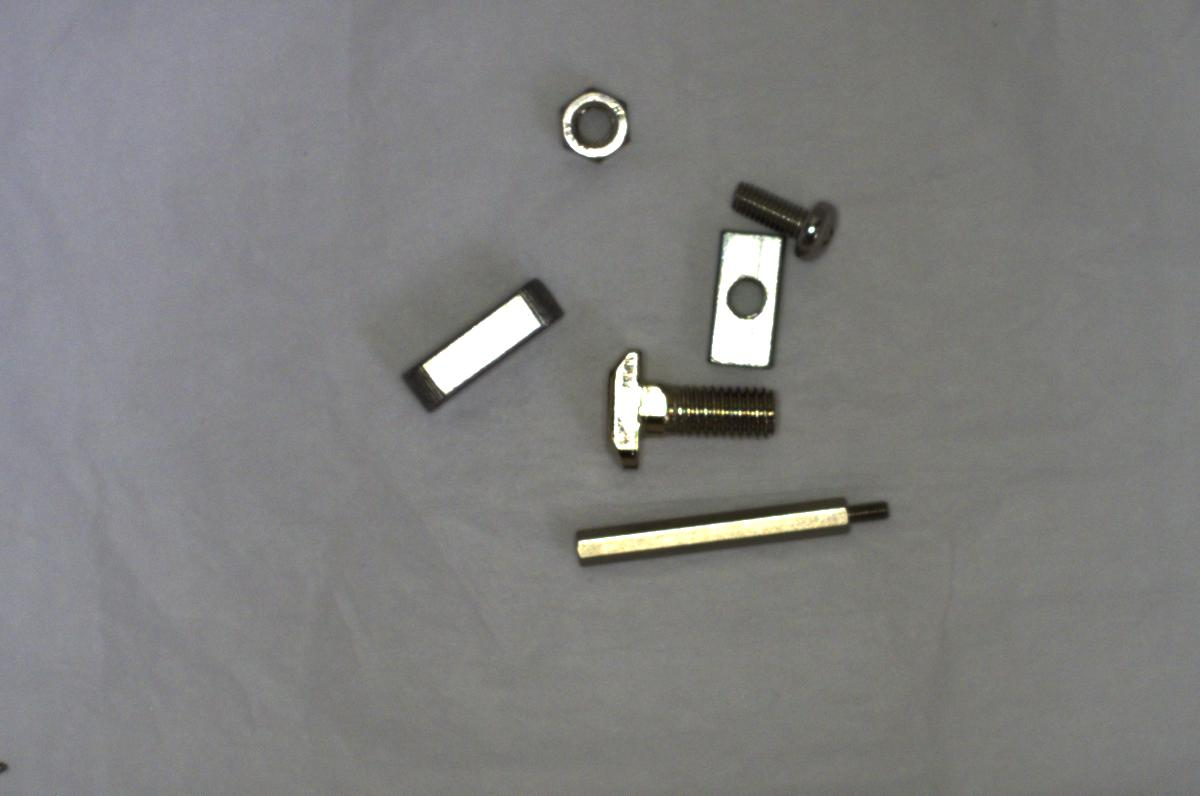Hexagon nut: (551, 74, 640, 170)
Hexagonal steel column: (570, 486, 895, 569)
Keybar: (400, 273, 570, 414)
Rectangular nut: (708, 227, 788, 375)
Round head screw: (731, 173, 841, 262)
T-shaped screw: (593, 345, 798, 475)
